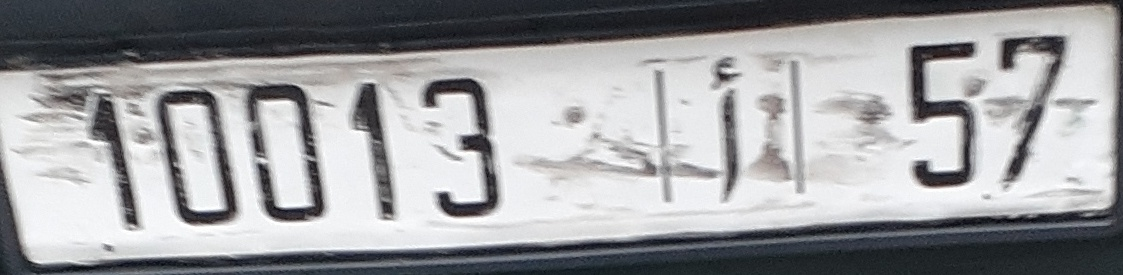0: (154, 87, 245, 230), (244, 79, 331, 222)
1: (85, 89, 147, 236), (344, 80, 403, 227)
3: (418, 73, 505, 222)
5: (898, 36, 981, 190)
7: (995, 32, 1073, 194)
a: (707, 53, 752, 207)
